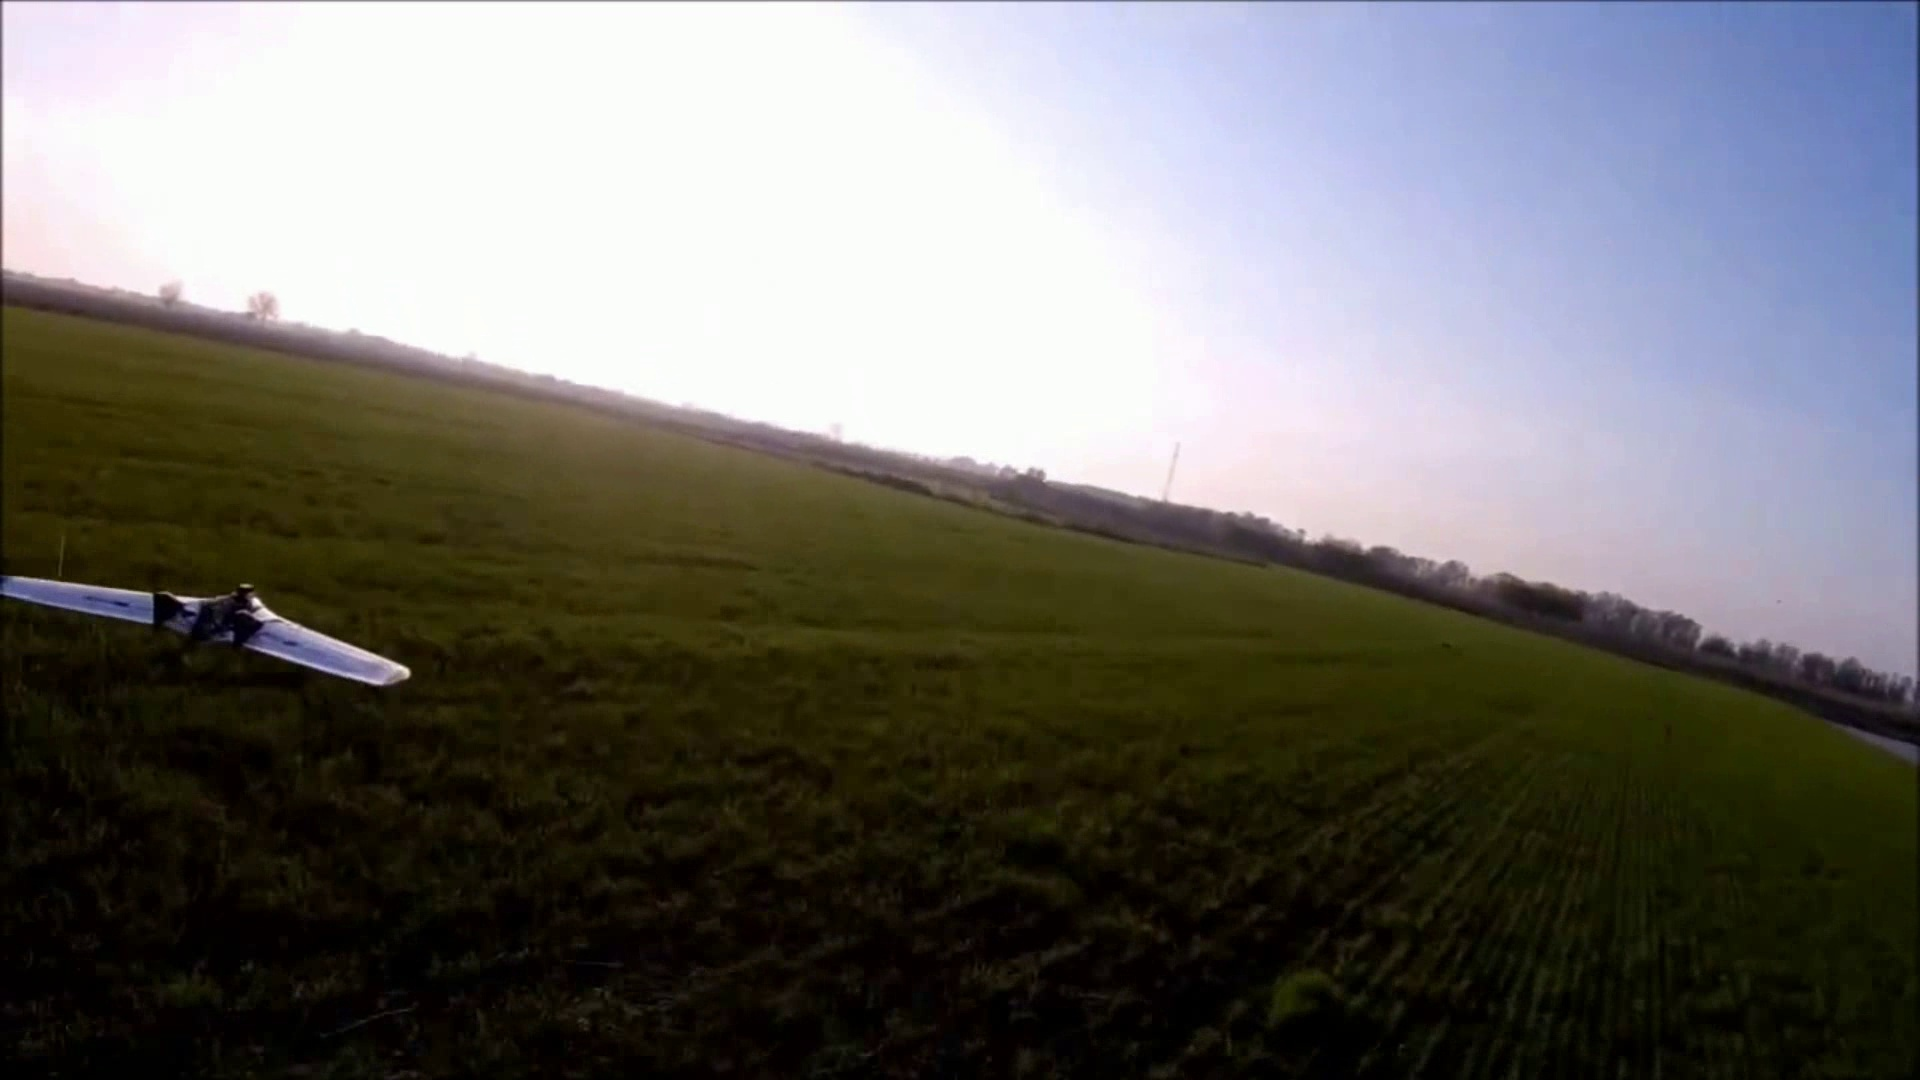airplane: (0, 575, 410, 688)
